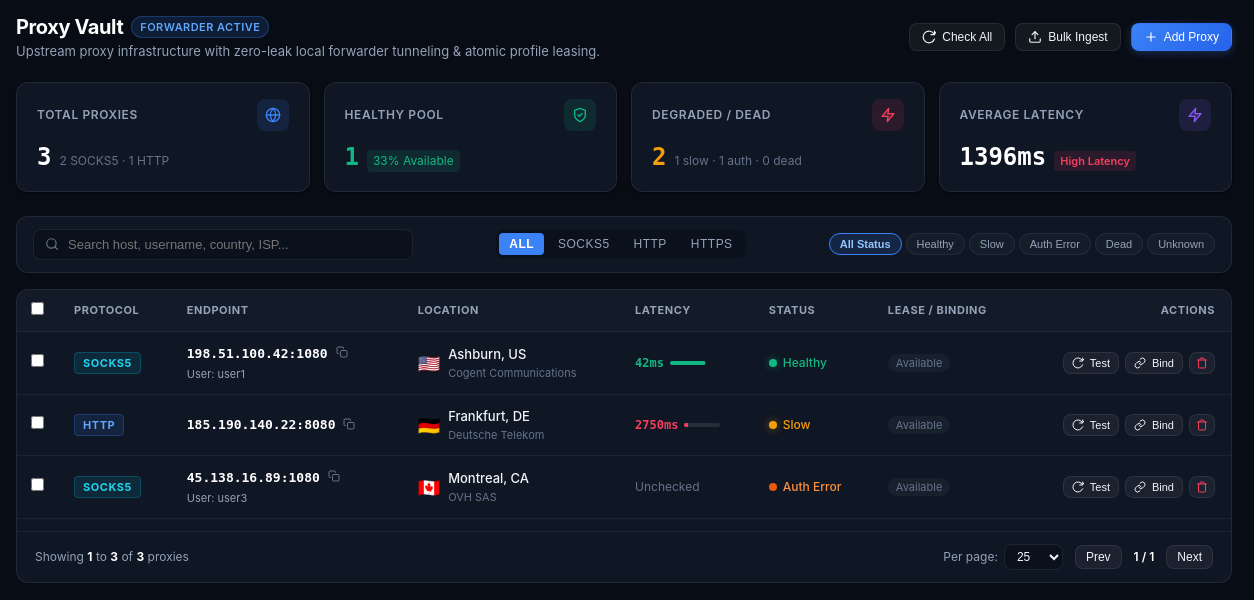
Test: Ticket 2.8: ProxyVaultView UI & Subsystem Interaction › filters proxies by search query and protocol pill
Expected: the text "198.51.100.42:1080" is shown, [187,344,328,364]
Click the button "http".
click(650, 244)  # box [624,233,677,255]
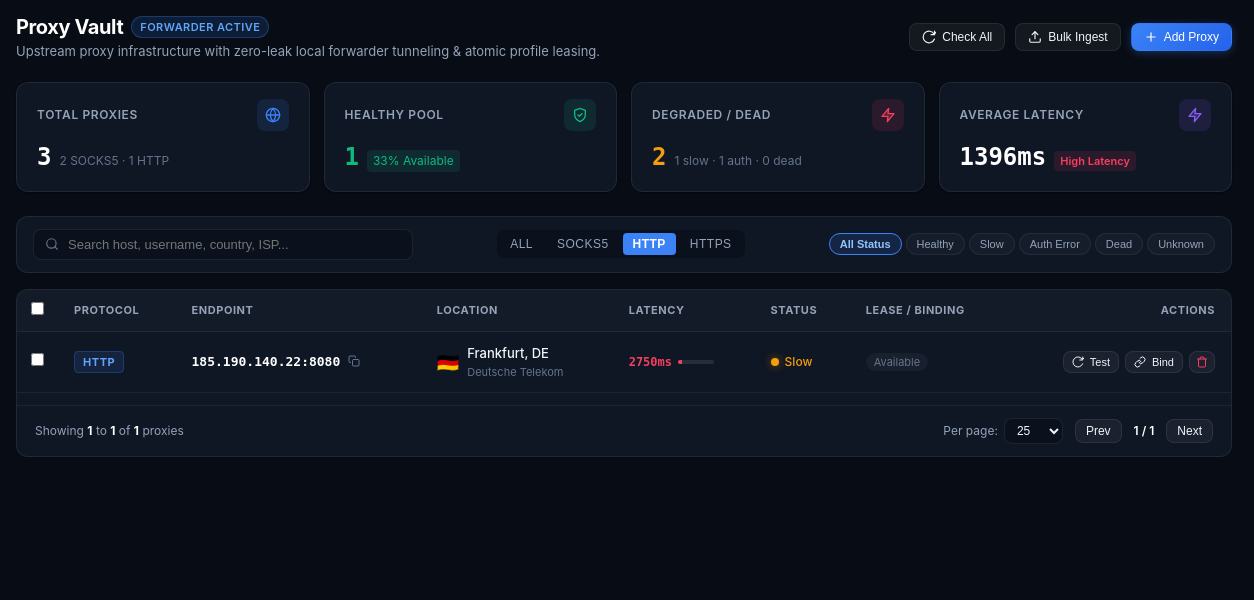
Expected: the text "185.190.140.22:8080" is shown, [192,352,340,372]
Result: the text "198.51.100.42:1080" is gone
Reset protocol to ALL
Click the button "all".
click(522, 244)  # box [500,233,543,255]
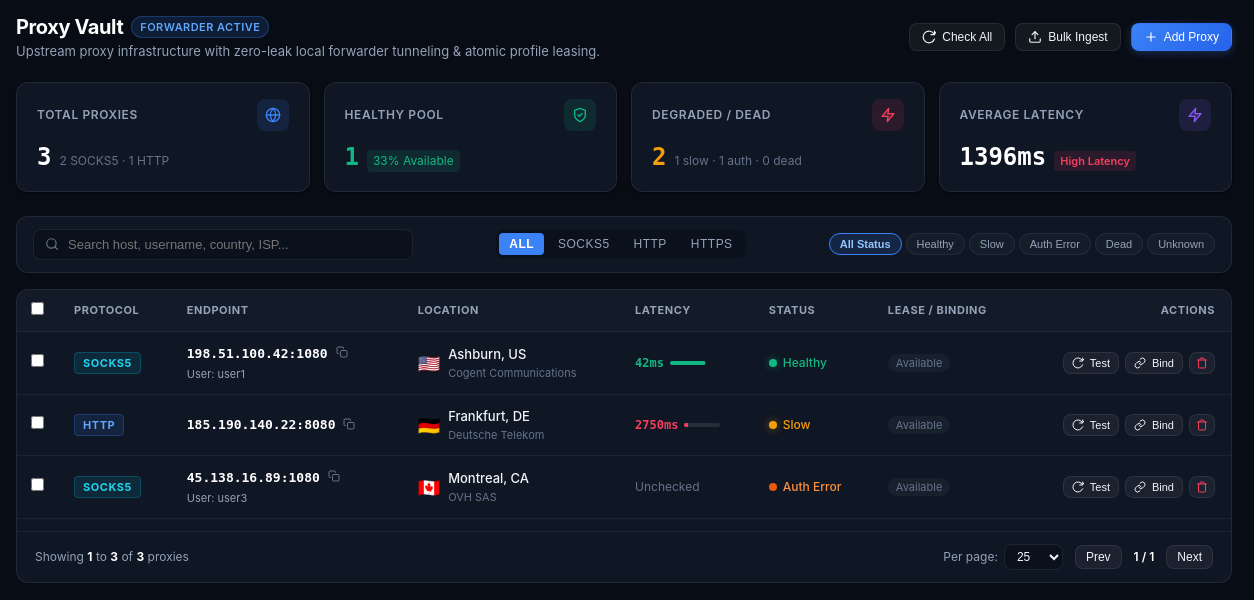
Result: the text "198.51.100.42:1080" is shown at [187,344,328,364]
Search query
Type "Montreal" into the field with placeholder "Search host, username, country, ISP...".
click(223, 244); type("Montreal")  # box [33,228,413,260]
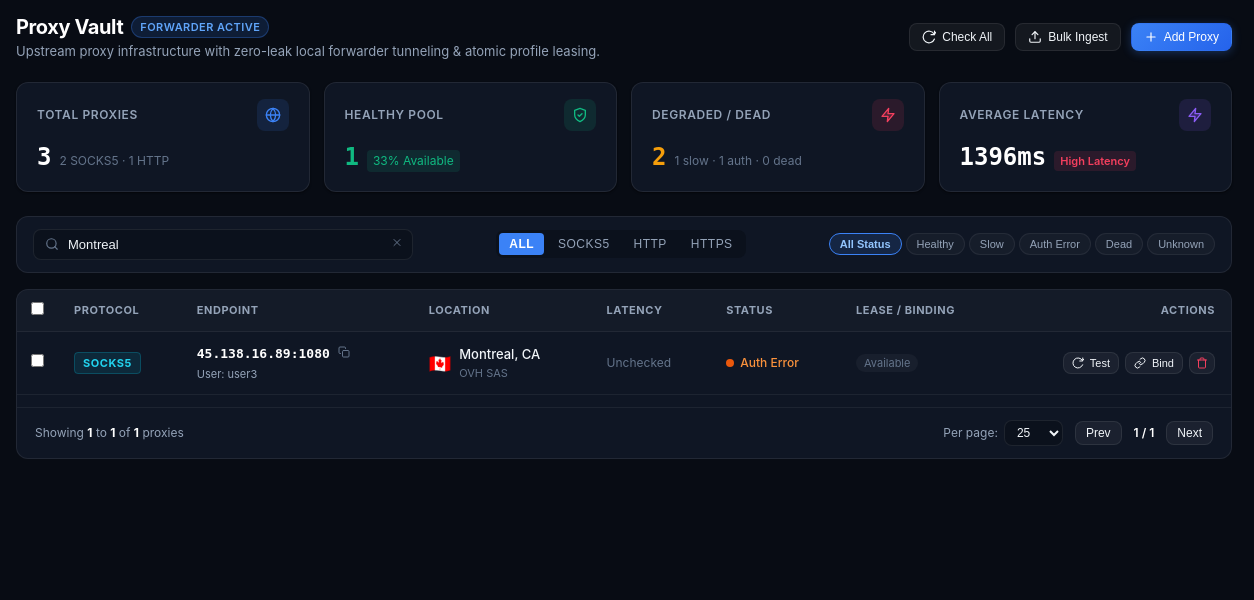
Result: the text "45.138.16.89:1080" is shown at [197,344,330,364]
Result: the text "198.51.100.42:1080" is gone
